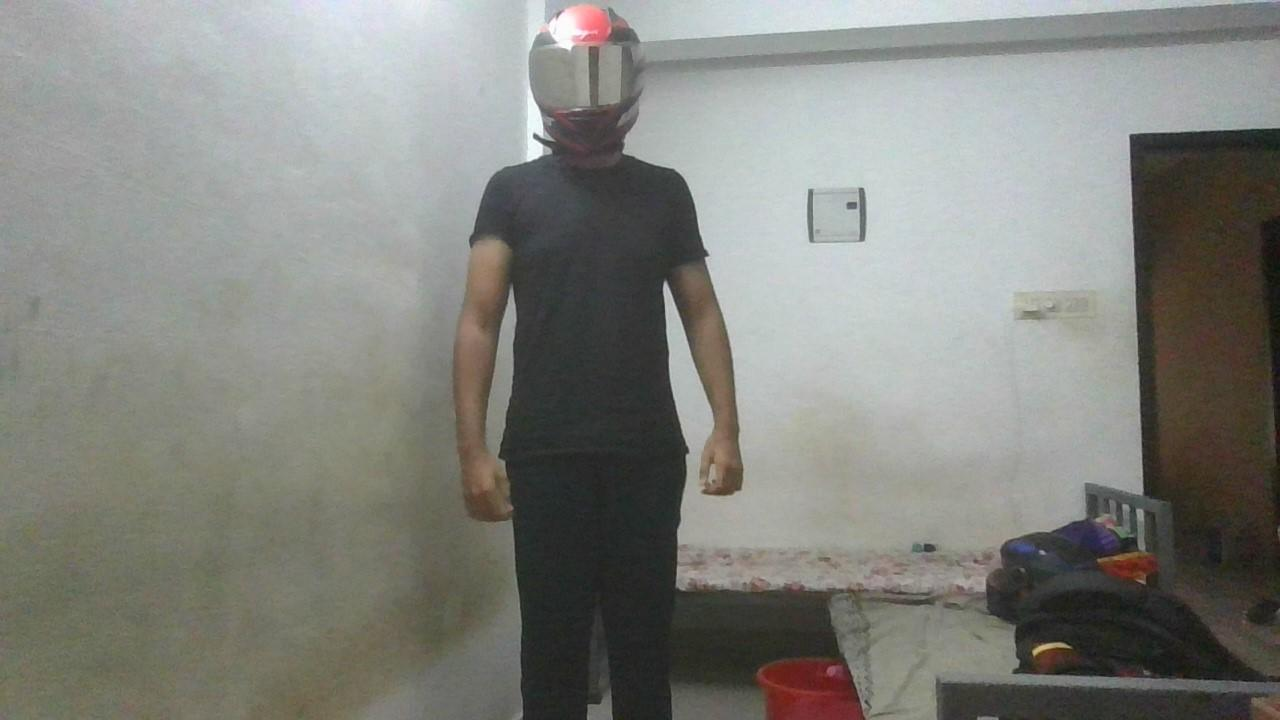helmet: (526, 4, 647, 159)
